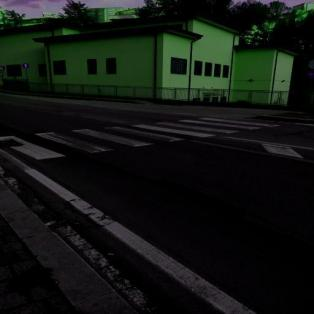Paso de Cebra: (29, 126, 159, 156)
